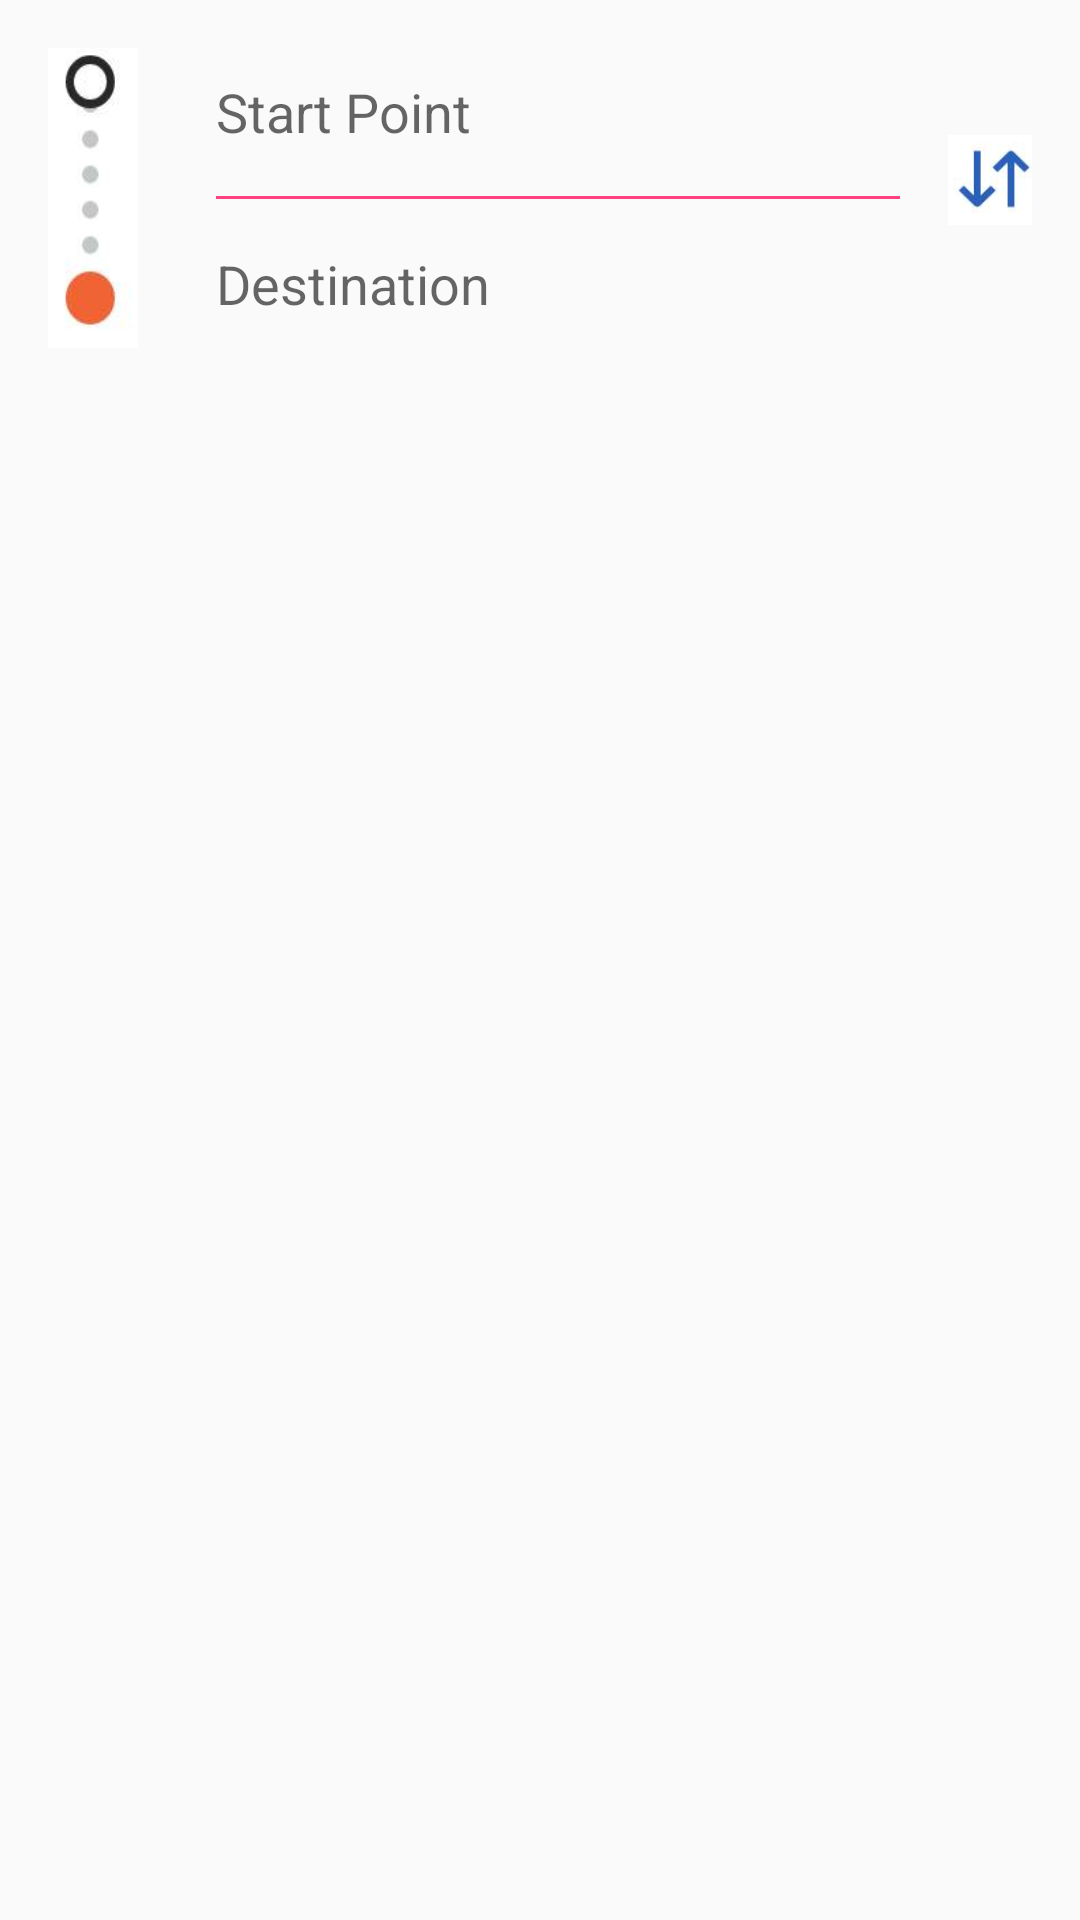

Where icons sit on this 1080 x 1920 app screen, as [x1,y1,x2,y2]:
reverse: [958,150,1030,208]
